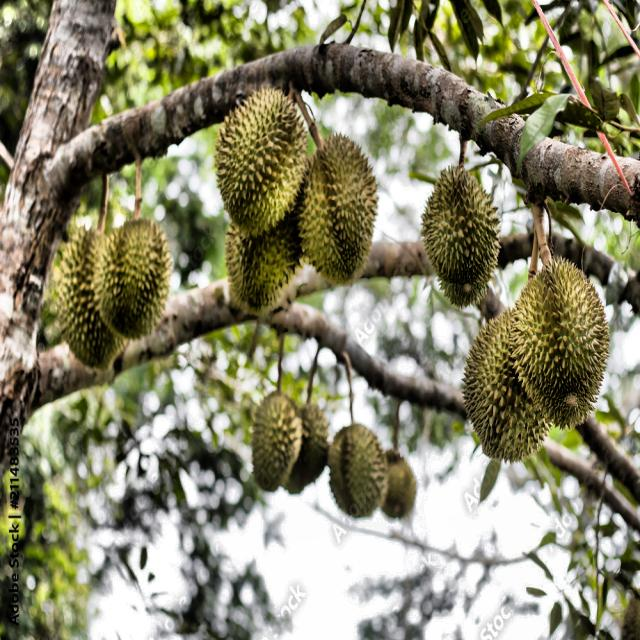arvore: (0, 0, 147, 517)
